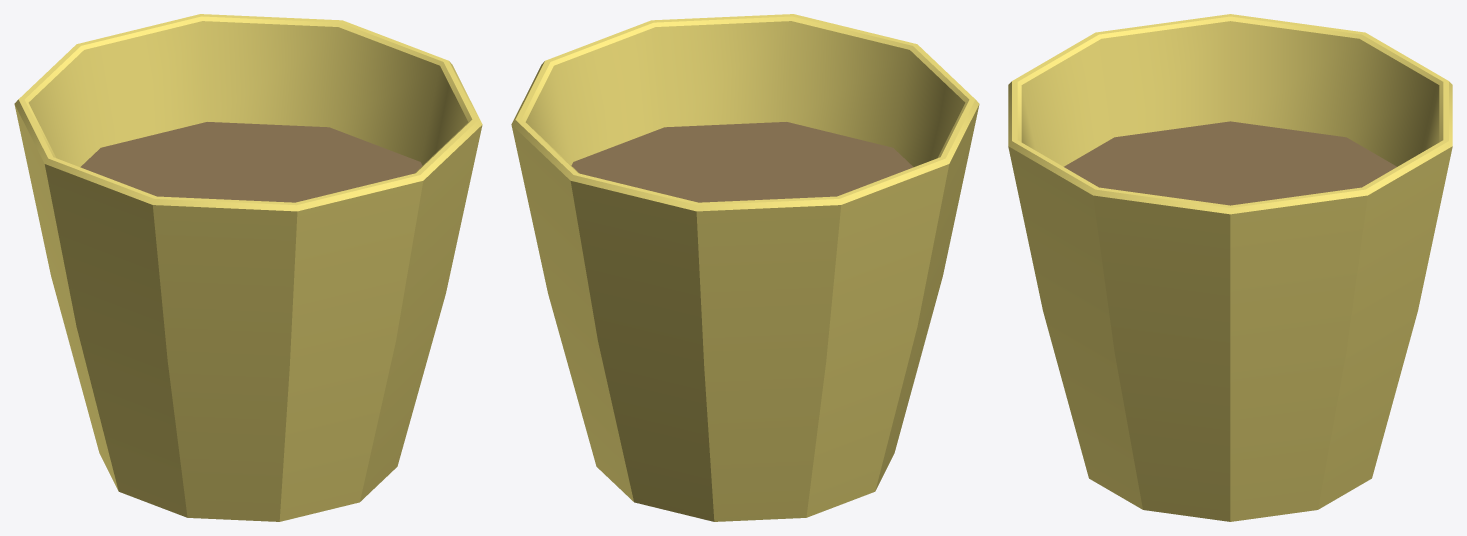
Rendered from potjaune.FBX.
3 renders of one model, left to right at view 1: azimuth 30°, elevation 25°; view 2: azimuth 150°, elevation 25°; view 3: azimuth 270°, elevation 25°, orthographic.
Visible parts, largest first — view 1: Cylinder001; view 2: Cylinder001; view 3: Cylinder001.
Boxes of the visible parts, x1,y1,x2,y2 form: Cylinder001: (14,14,482,521); Cylinder001: (511,14,979,521); Cylinder001: (1008,14,1452,521).
Bounding box in the file's own units: 34.24 × 28.12 × 32.56.
